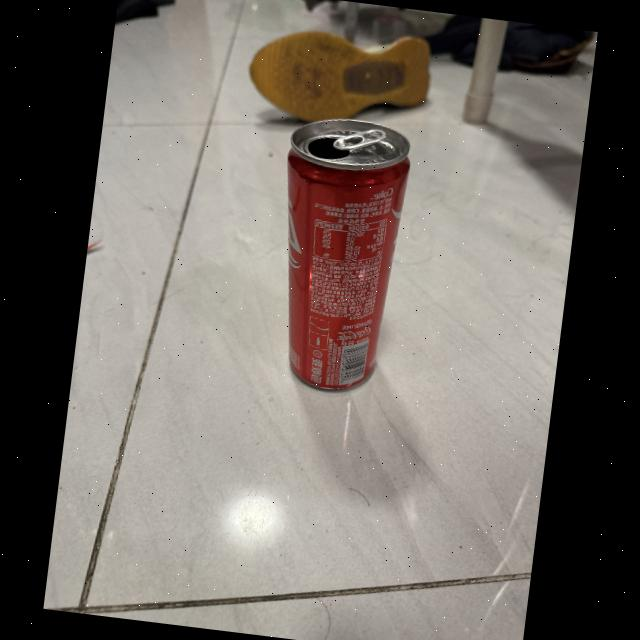Cola: (240, 95, 431, 420)
